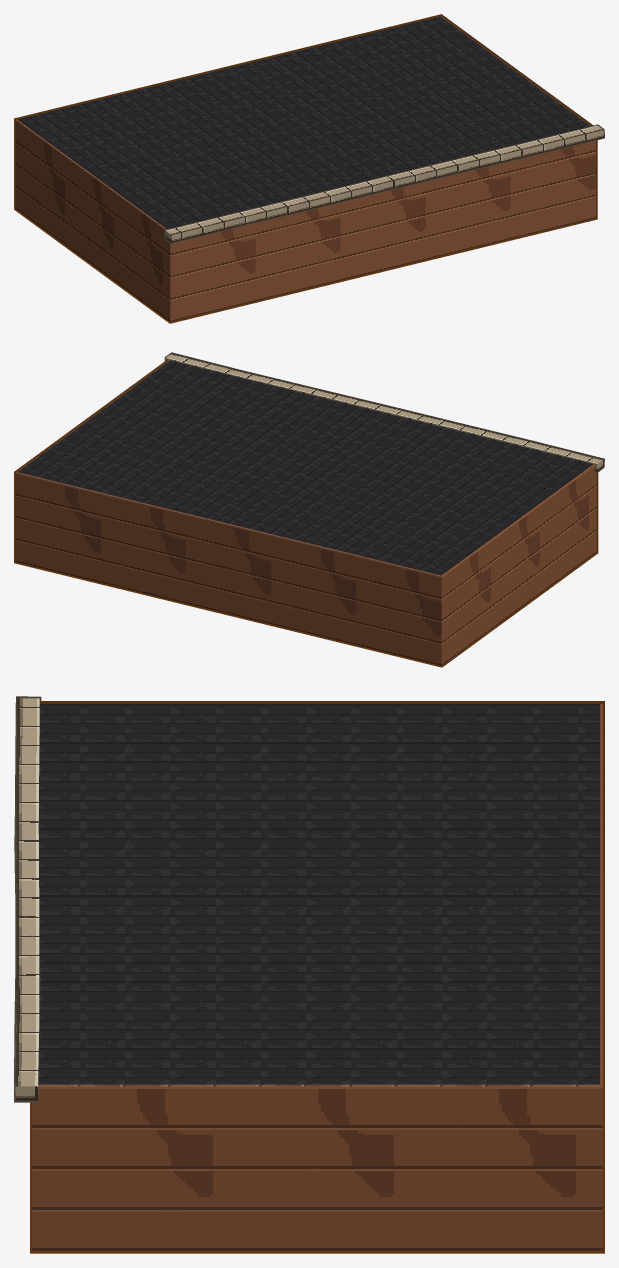
The model's file is Block_3.glb.
The picture shows the model from 3 angles, top to bottom: view 1: azimuth 30°, elevation 25°; view 2: azimuth 150°, elevation 25°; view 3: azimuth 270°, elevation 25°; orthographic projection. The views are drawn at different scales.
Visible parts, largest first — view 1: Block_3; view 2: Block_3; view 3: Block_3.
Part boxes in pixels (bbox=[...]): Block_3: bbox=[14, 14, 604, 323]; Block_3: bbox=[14, 352, 604, 667]; Block_3: bbox=[14, 696, 604, 1253].
Size of the model in its own units: 20.38 by 4.17 by 13.05.
Materials: 5 (3 with a texture image).
